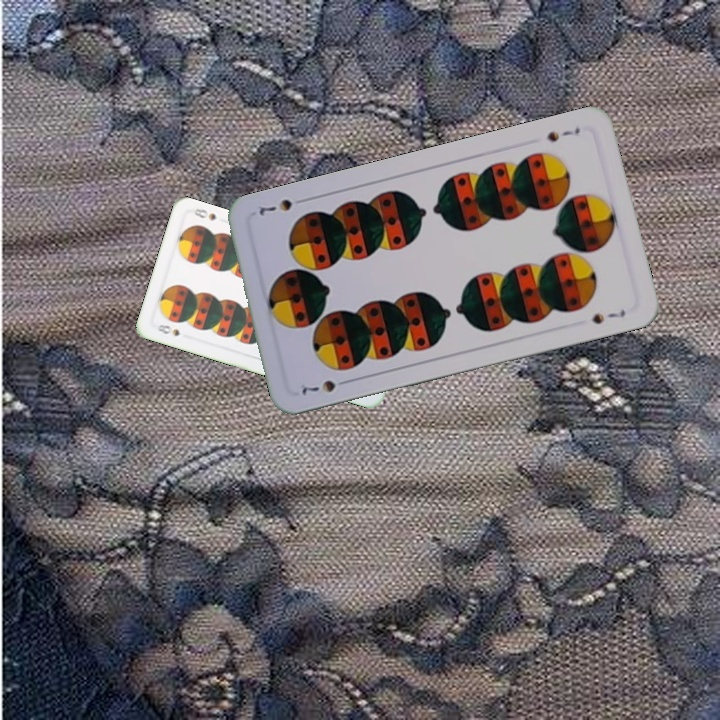S7: (297, 375, 353, 397), (543, 122, 583, 145)
S8: (153, 320, 182, 339)
